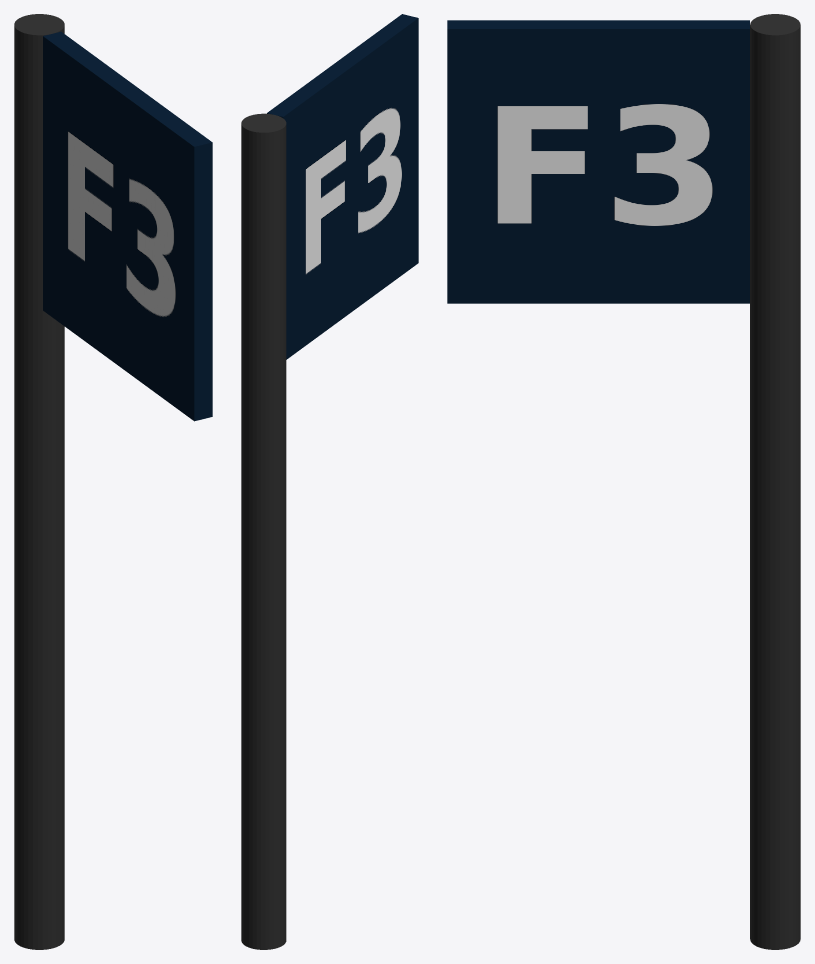
Rendered from start_flag.dae.
The picture shows the model from 3 angles, left to right: view 1: azimuth 30°, elevation 25°; view 2: azimuth 150°, elevation 25°; view 3: azimuth 270°, elevation 25°; orthographic projection. The views are drawn at different scales.
Visible parts, largest first — view 1: flag; view 2: flag; view 3: flag.
Part boxes in pixels (left/top/right/bottom): flag: left=14, top=14, right=212, bottom=949; flag: left=241, top=14, right=418, bottom=949; flag: left=447, top=14, right=800, bottom=949.
Size of the model in its own units: 0.1 by 0.7 by 2.
Materials: 2 (1 with a texture image).
